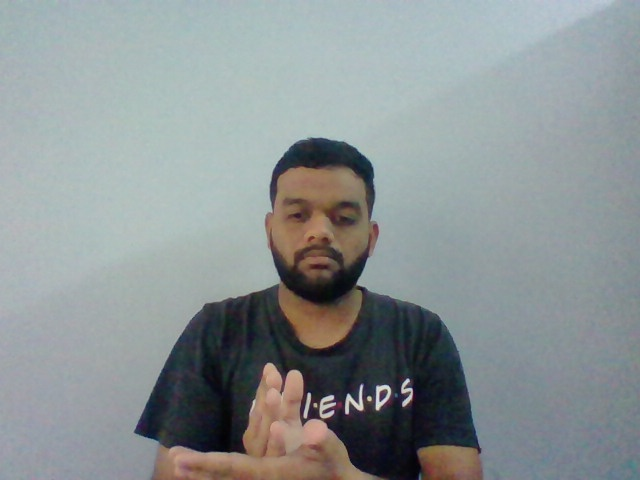Stop: (169, 361, 369, 480)
